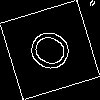O: (24, 24, 84, 81)
